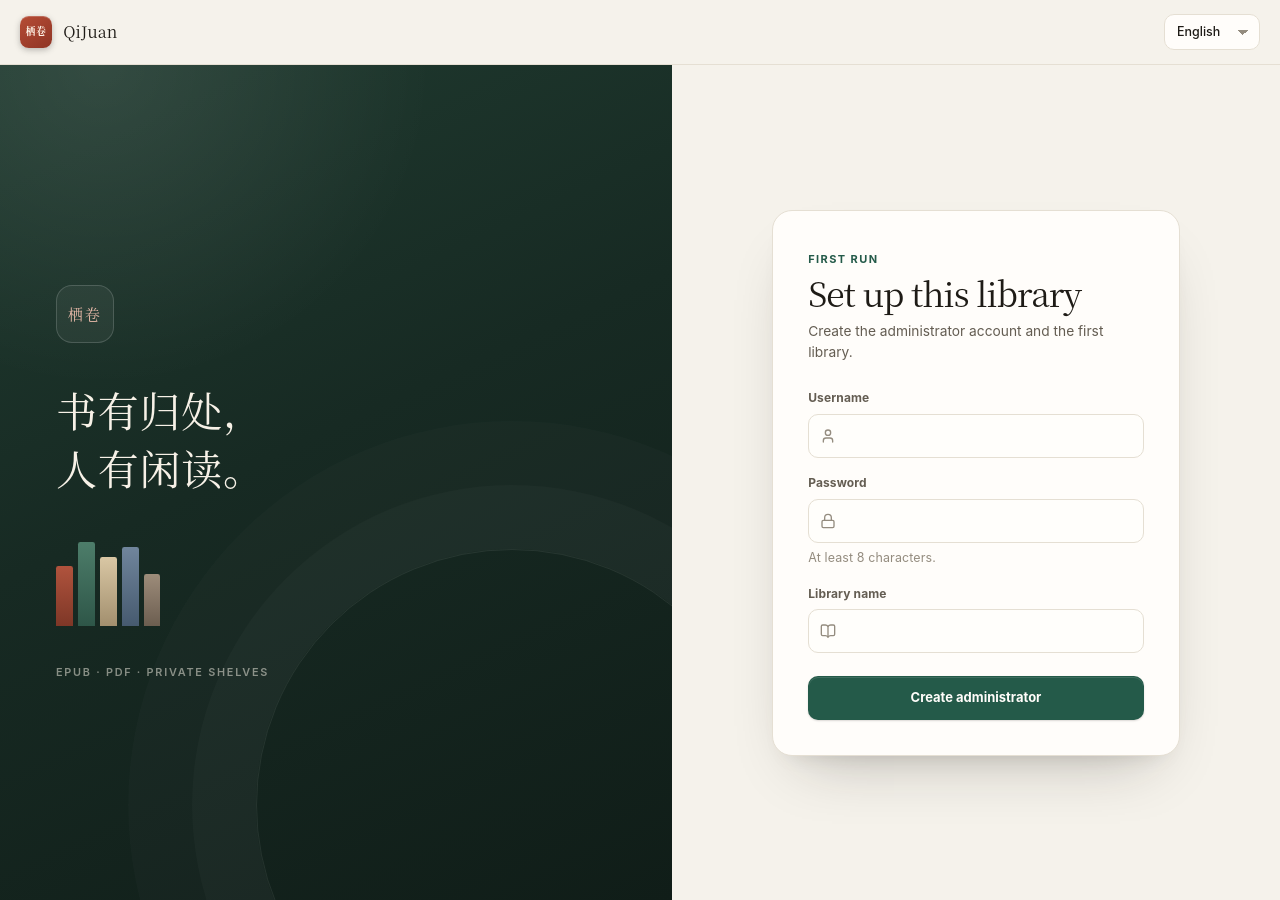
first-run gate › switches setup copy to Simplified Chinese
Expected: the heading "Set up this library" is shown, [808,268,1081,317]
Select "简体中文" in the dropdown named "Language" at (1212, 32), box [1164,14,1260,50]
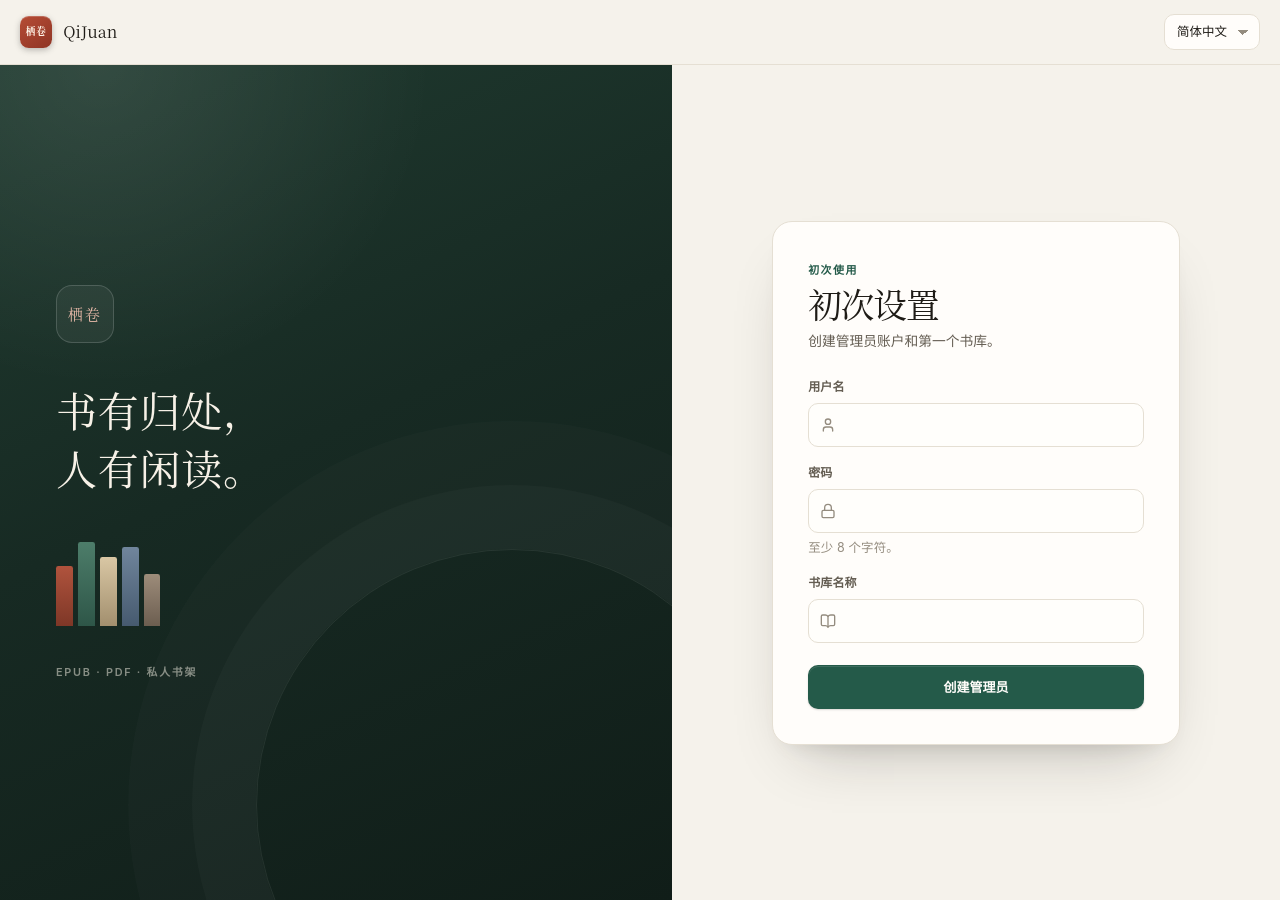
Now the heading "初次设置" is shown, box [808,279,938,328]
Now the field labelled "书库名称" is shown, box [808,599,1144,643]
